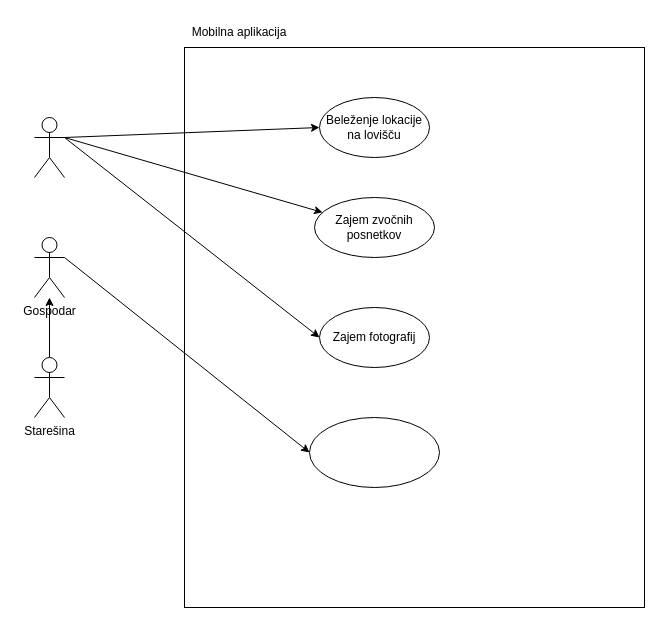
This 662x625 diagram has some shape labels left out. Here are the shapes that lost their labels. From the top down, the centre of each, then its label:
pixel 49 147: Lovski čuvaj
pixel 374 452: Pregled prisotnosti lovcev in čuvajev na lovišču
